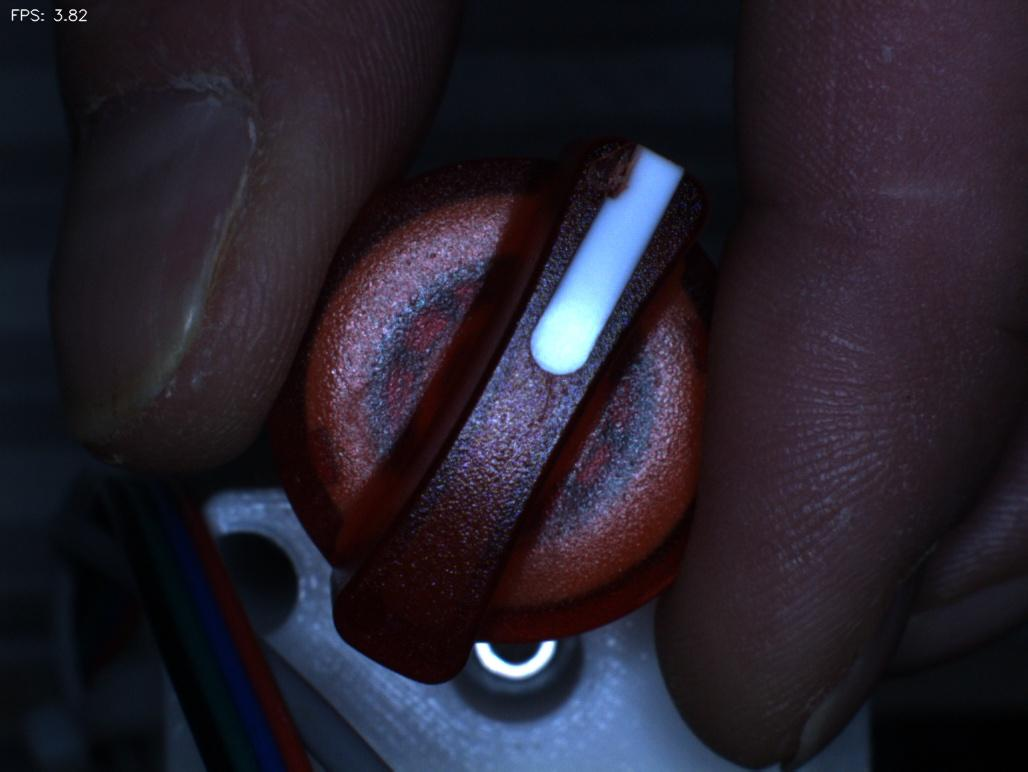Choc: (574, 125, 659, 221)
